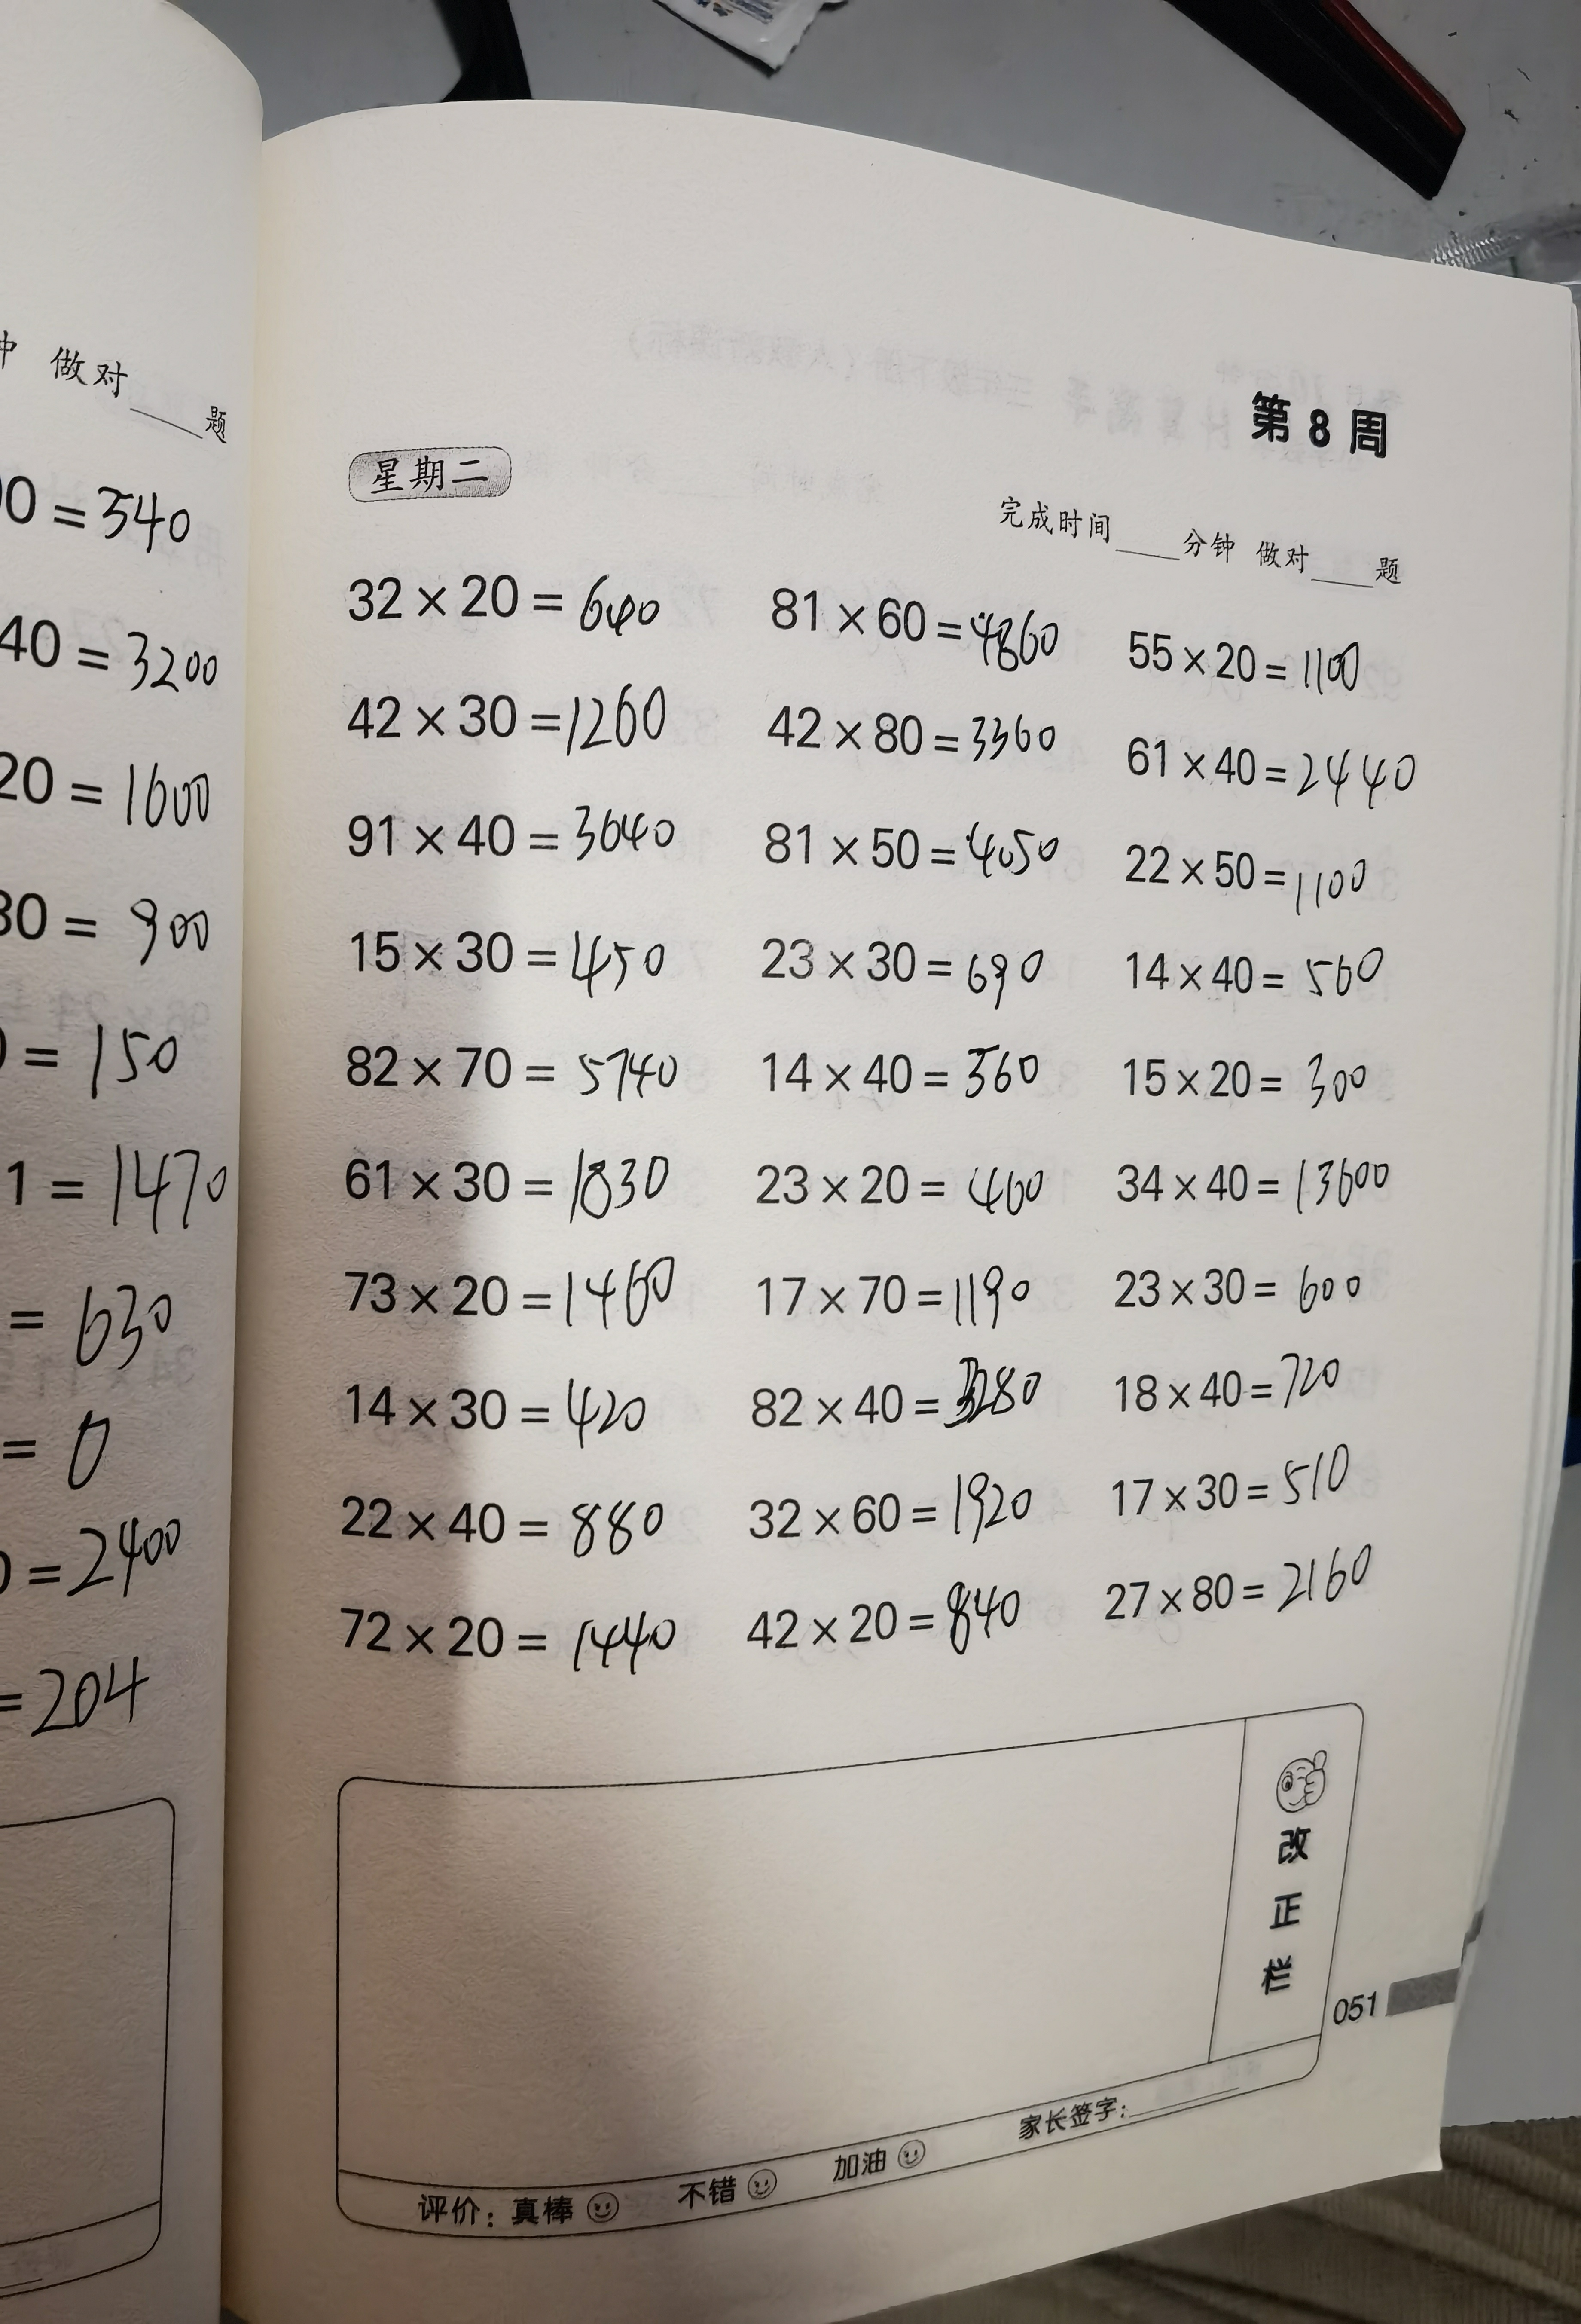equation: (752, 533, 1069, 679), (295, 1574, 697, 1685), (323, 1124, 683, 1233), (323, 1246, 725, 1341), (323, 549, 678, 655), (746, 799, 1085, 902), (302, 1472, 679, 1563), (349, 773, 681, 877), (339, 905, 697, 1001), (348, 1022, 701, 1117), (335, 674, 690, 766), (333, 1366, 688, 1458), (1089, 1548, 1390, 1652), (725, 1586, 1057, 1678), (1106, 718, 1431, 812), (729, 1145, 1071, 1228), (727, 1463, 1055, 1548), (1105, 1233, 1412, 1323), (748, 1036, 1069, 1119), (752, 1253, 1059, 1338), (1120, 828, 1392, 923), (745, 933, 1080, 1009), (1089, 1334, 1394, 1417), (761, 697, 1076, 776), (1113, 937, 1436, 1011), (729, 1369, 1048, 1443), (1129, 605, 1382, 697), (1120, 1036, 1405, 1117), (1096, 1428, 1383, 1502), (1119, 1149, 1408, 1218)
